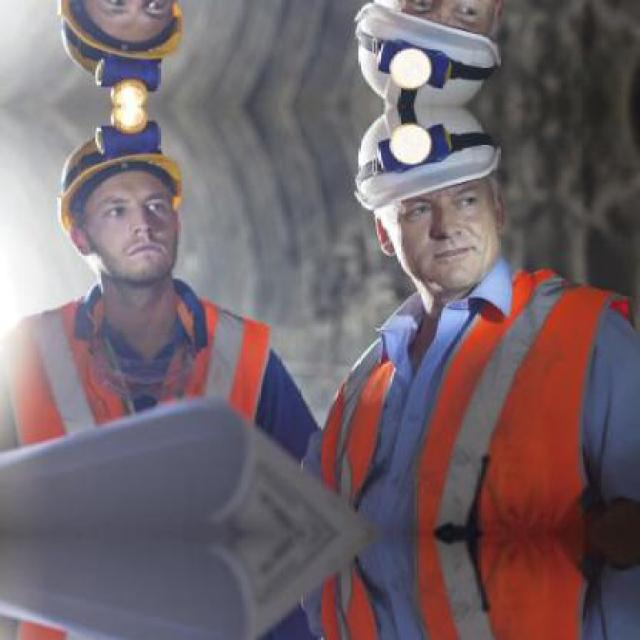helmet: (342, 112, 520, 306), (38, 127, 202, 309), (342, 0, 522, 102), (38, 0, 203, 86)
